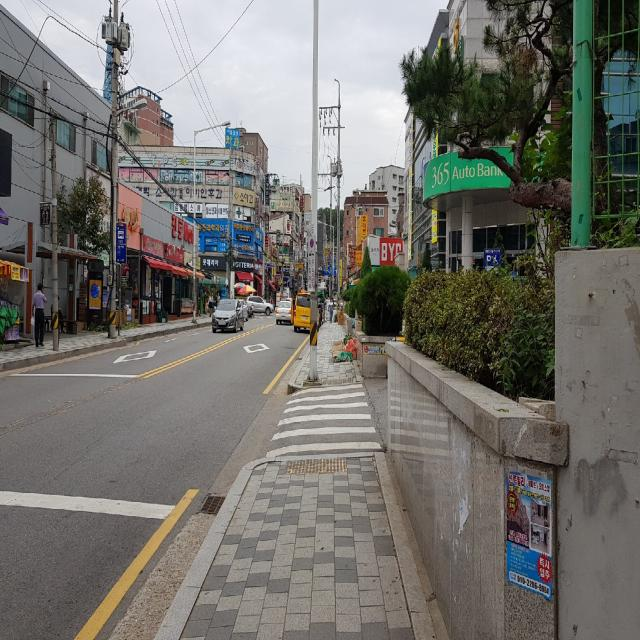횡단보도: (265, 383, 382, 458)
